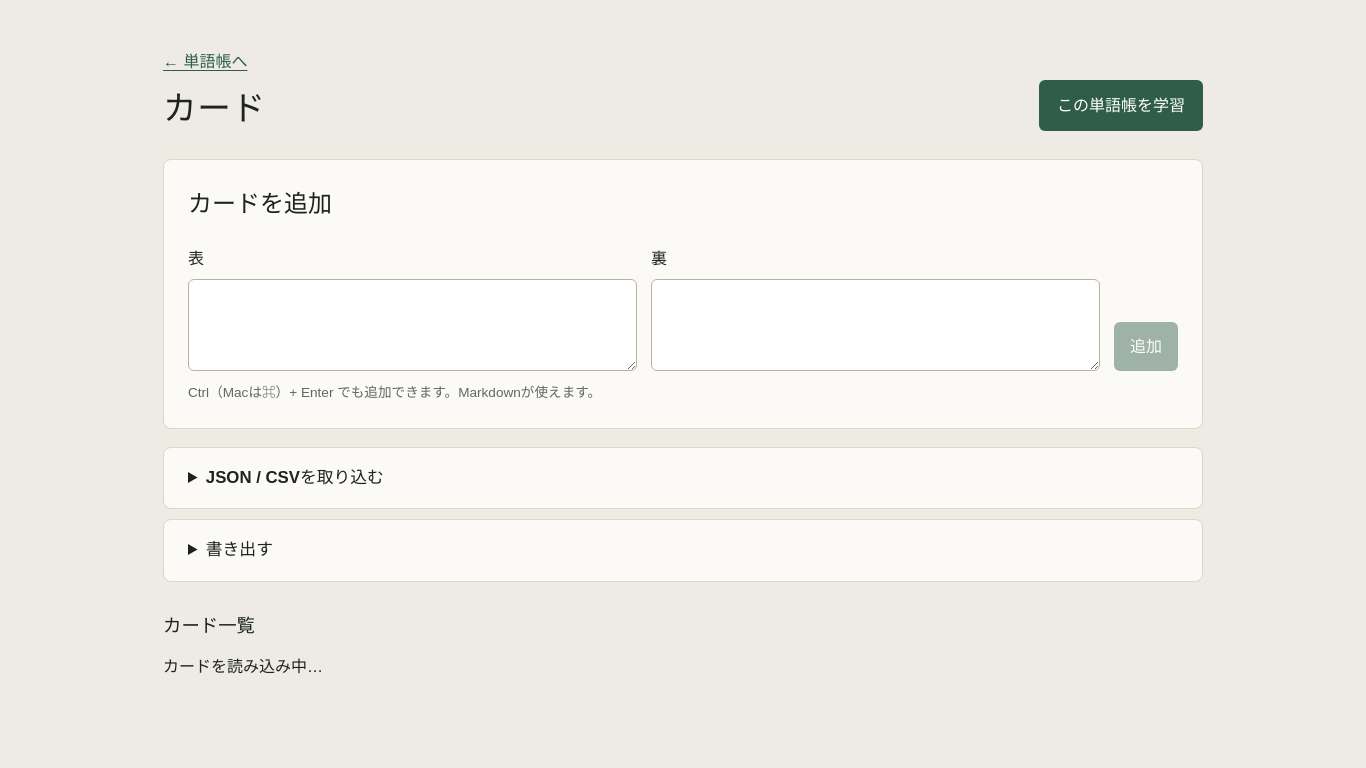
it: DeckDetailScreen › カード作成後に一覧を更新する
The width and height of the screenshot is (1366, 768).
Type "表1" into the text box labelled "表". click: [412, 325]
box: [188, 279, 637, 371]
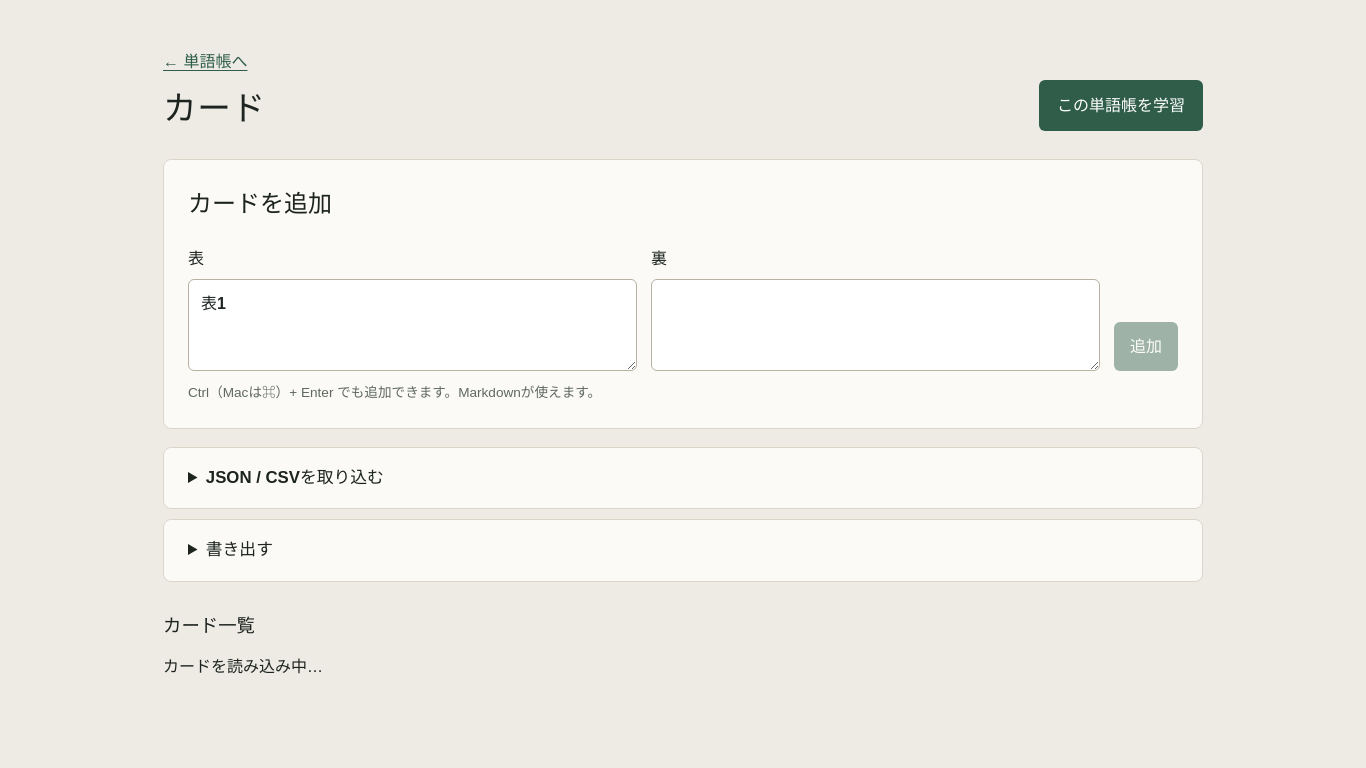
Type "裏1" into the text box labelled "裏". click: [876, 325]
box: [651, 279, 1100, 371]
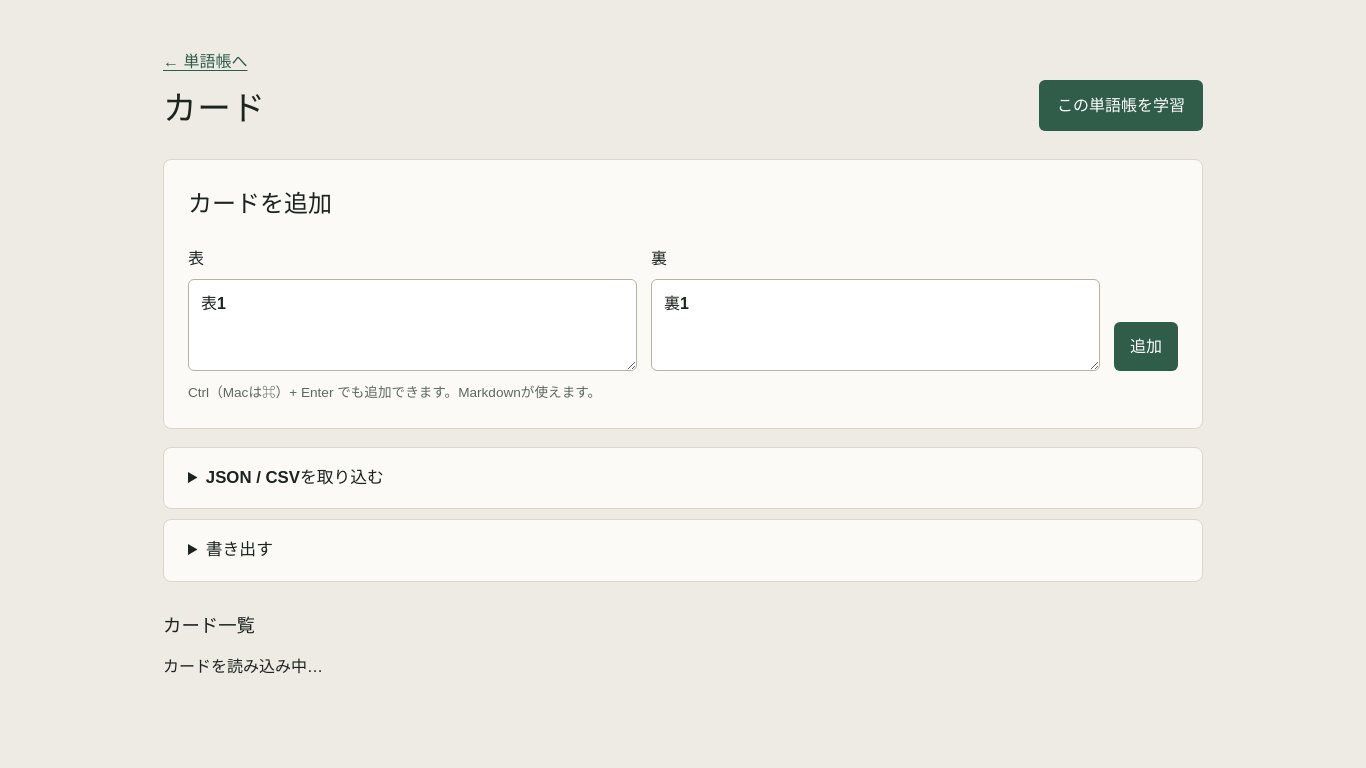
Click the button "追加". click: [1146, 346]
box: [1114, 322, 1178, 371]
(page scrolled)
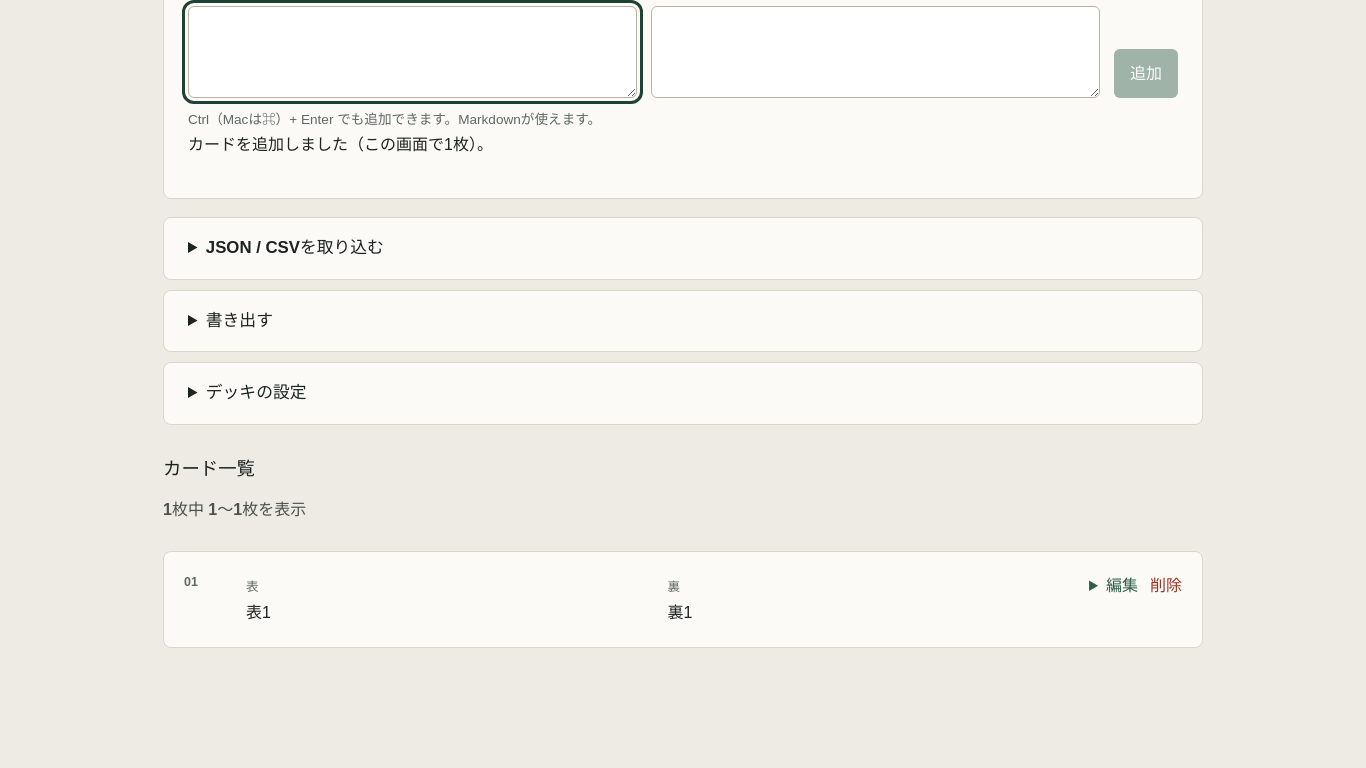
Expected: the text box "表1" is shown, [188, 6, 637, 98]
Now the text "裏1" is shown, box [668, 604, 692, 621]
